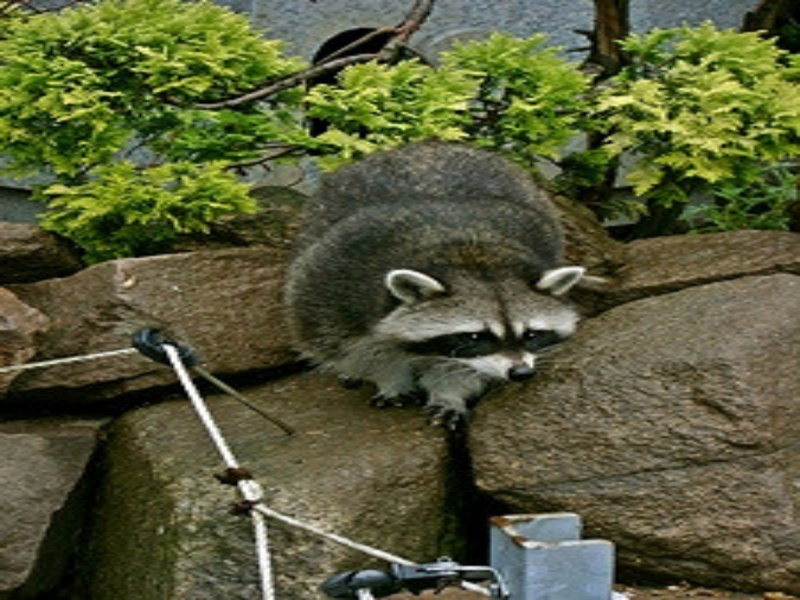raccoon: (285, 134, 586, 433)
